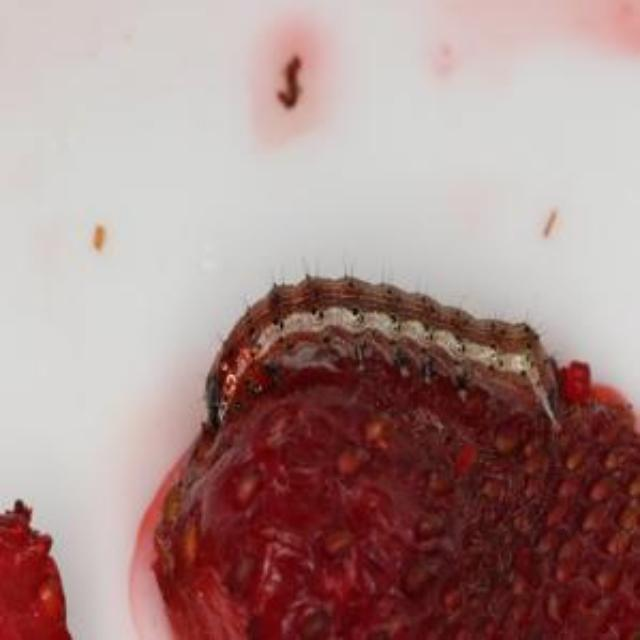Cotton bollworm: (178, 213, 578, 453)
